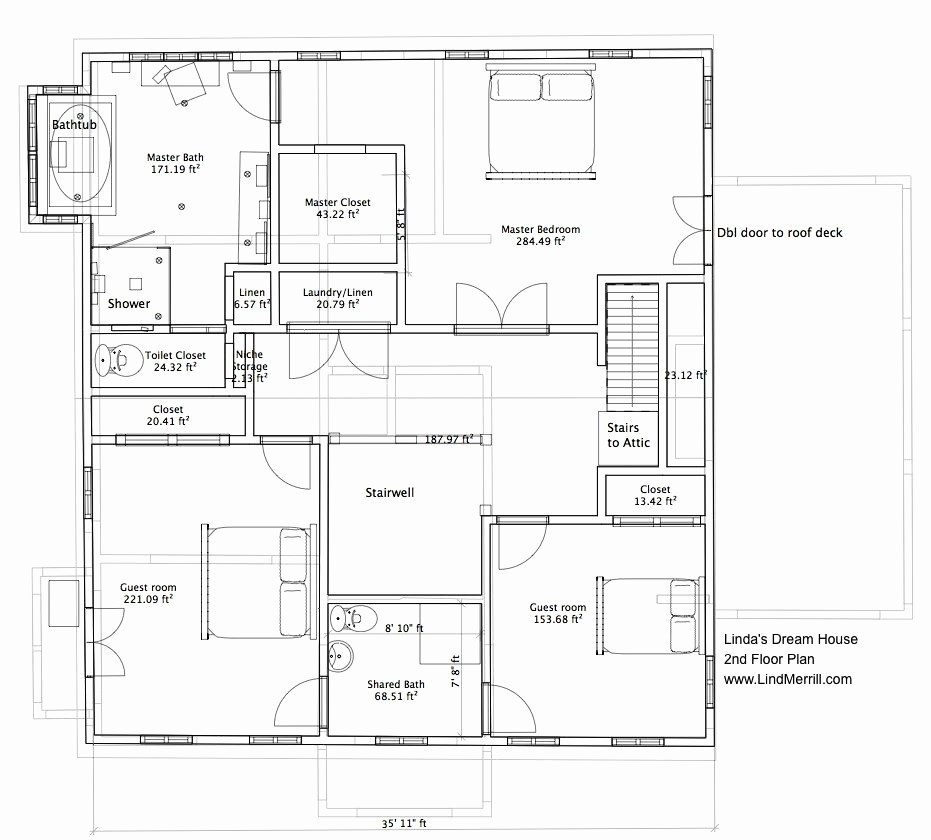door: (280, 335, 401, 392), (446, 277, 558, 320), (493, 526, 554, 584), (94, 604, 132, 688), (666, 190, 704, 274), (258, 444, 316, 496), (222, 69, 269, 132), (266, 675, 312, 732), (486, 677, 528, 730)
room: (74, 430, 329, 755), (16, 43, 283, 340), (389, 40, 717, 270), (473, 510, 714, 753), (312, 430, 493, 608), (314, 589, 495, 767), (263, 138, 411, 279), (267, 256, 412, 338)
